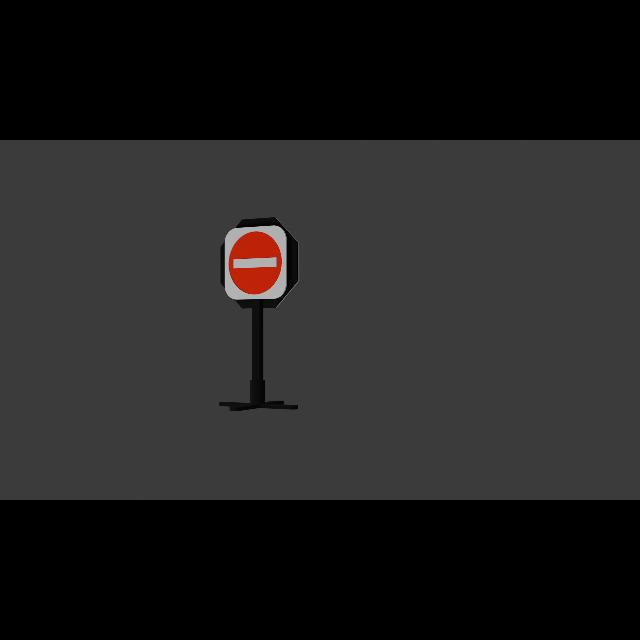sign_noentry: (228, 231, 284, 298)
